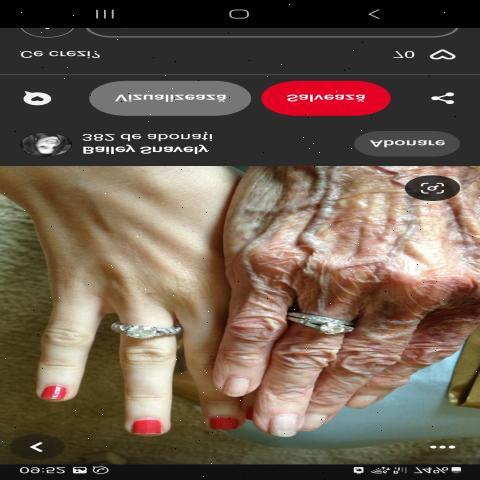Hands: (219, 168, 480, 449)
